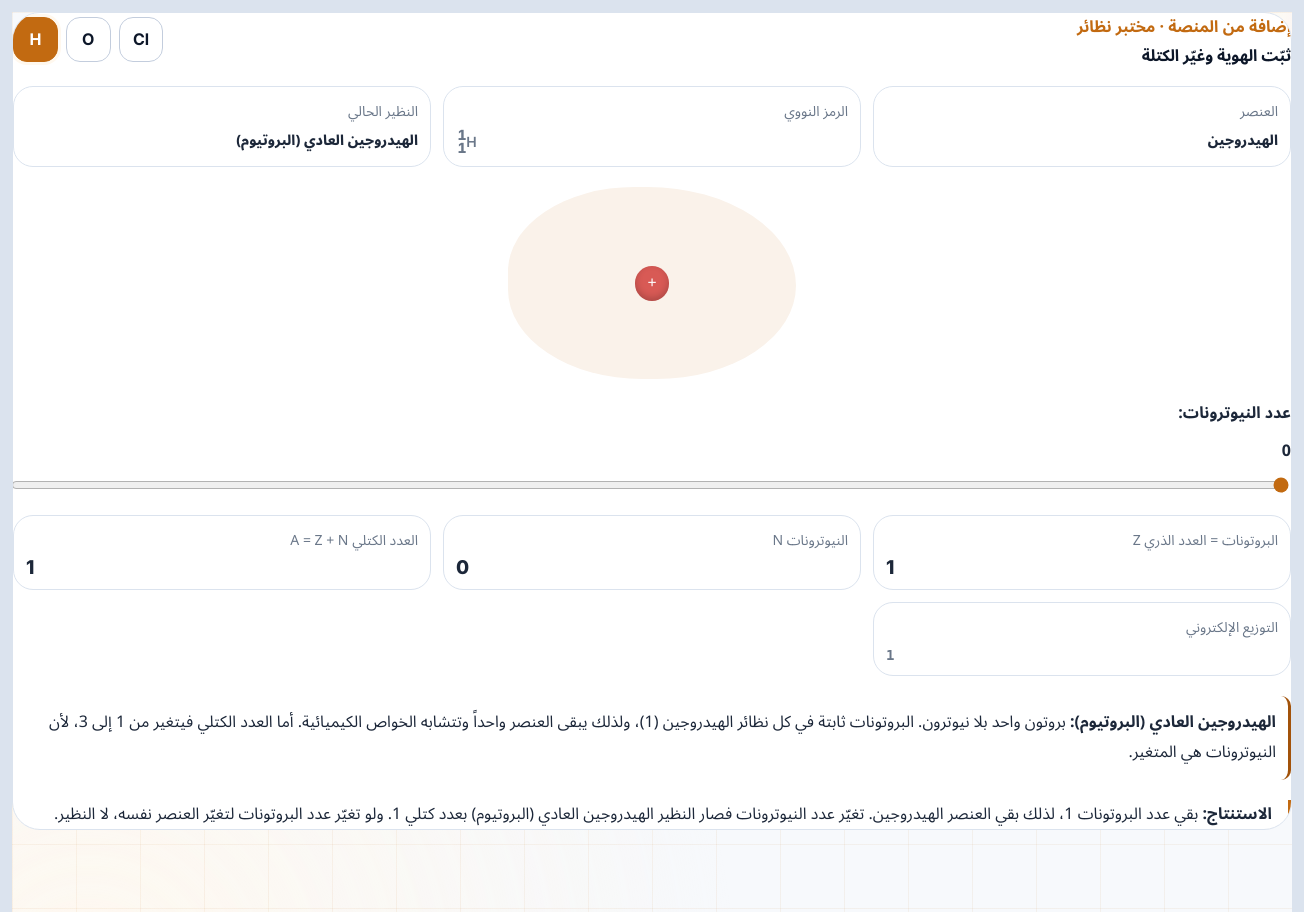
it: isotope and shell labs › keeps the element fixed while the mass number follows the neutrons
Expected: the text "الهيدروجين العادي (البروتيوم)" is shown, [236,126,418,155]
Click the button "O" at (88, 39), box [66,17,111,62]
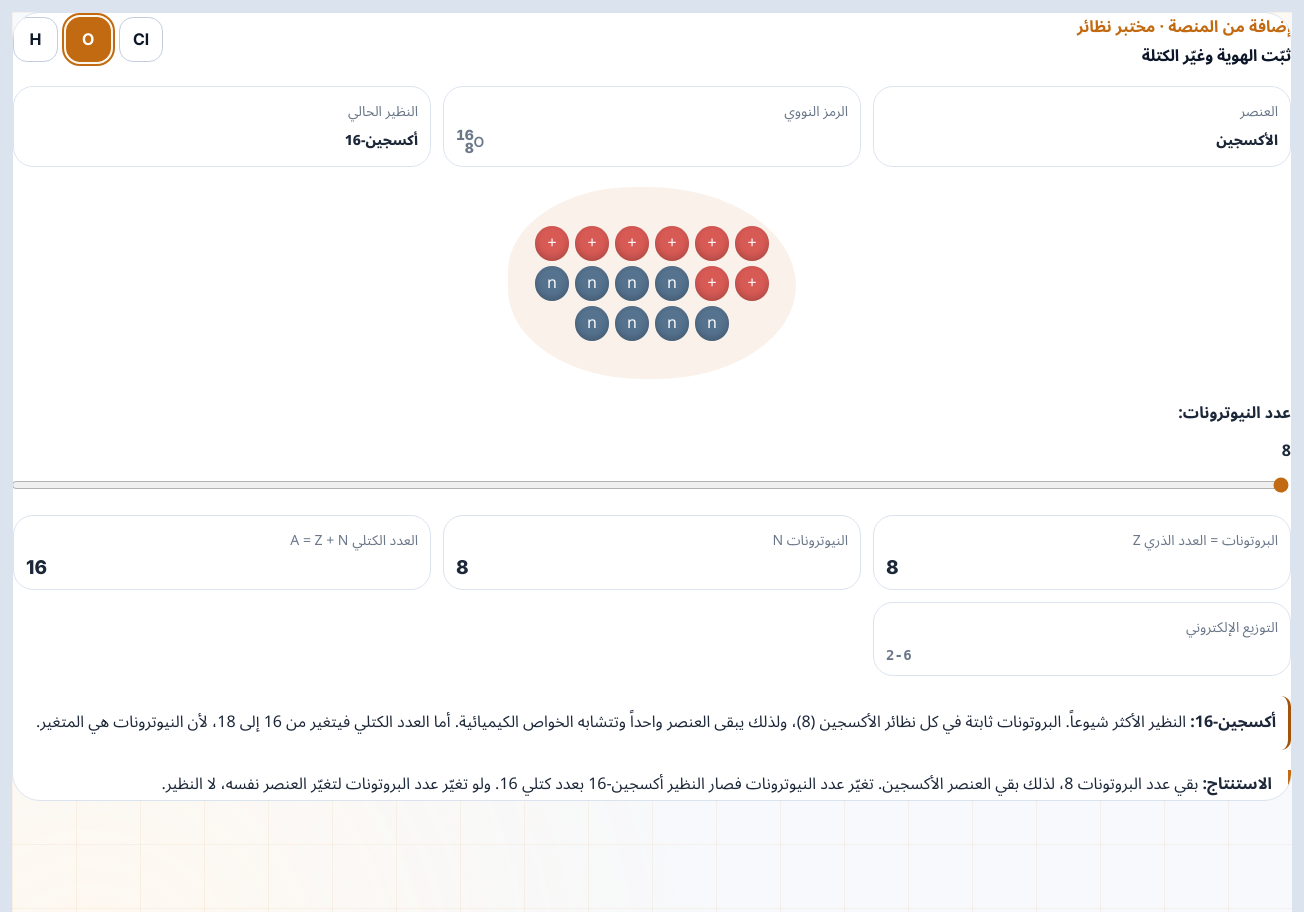
Expected: the text "أكسجين-16" is shown, [345,126,418,155]
Click the button "Cl" at (141, 39), box [119,17,163,62]
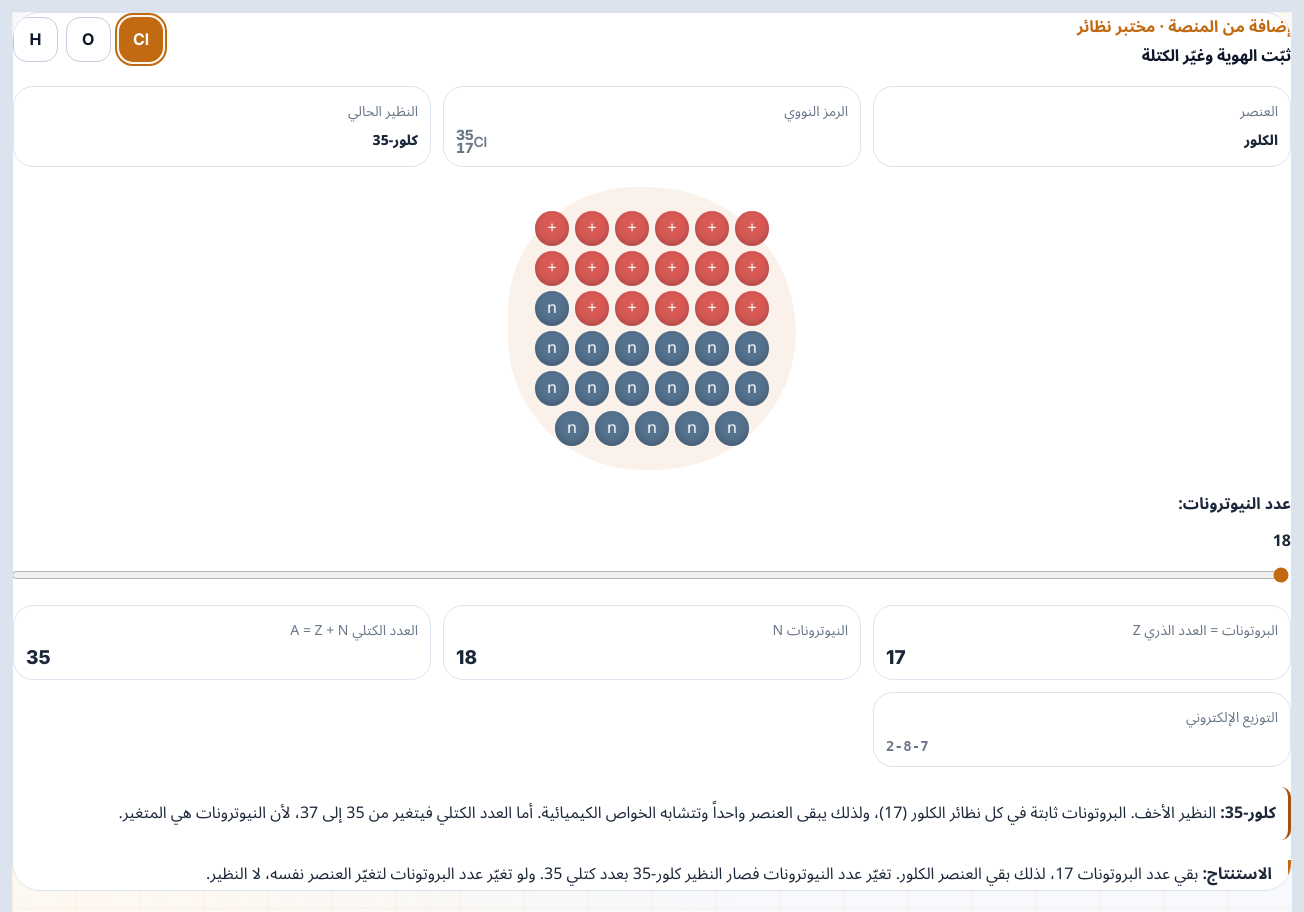
Expected: the text "كلور-35" is shown, [373,126,418,155]
